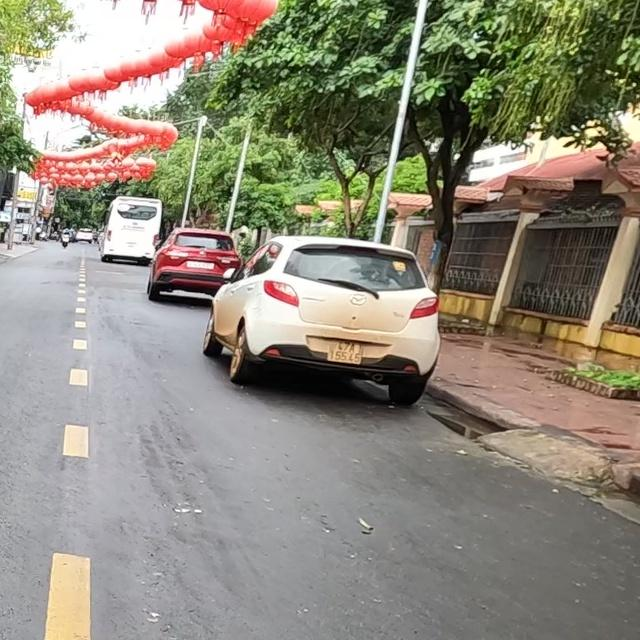license-plate: (328, 341, 364, 364)
